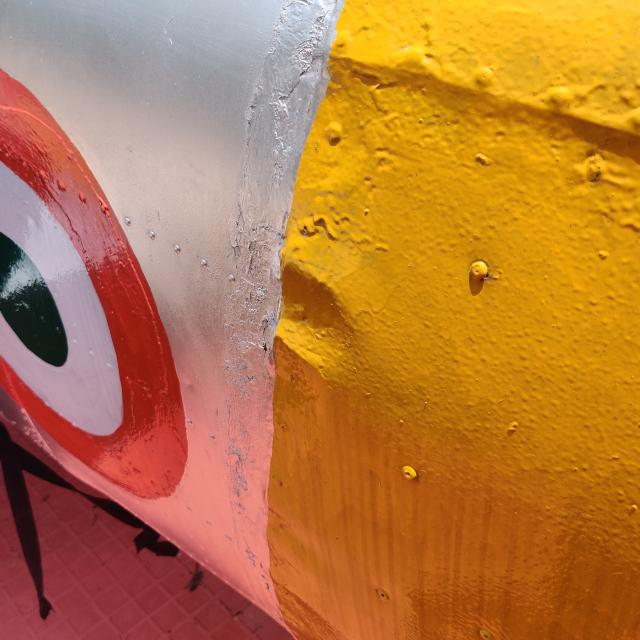dent: (232, 239, 380, 405)
